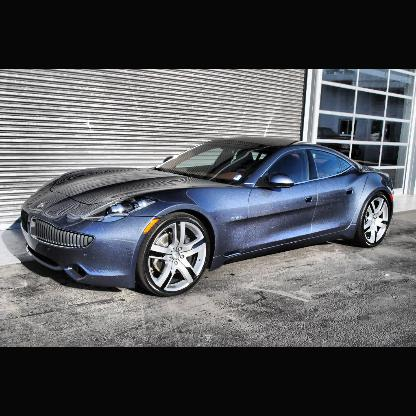Fisker Karma Sedan 2012: (22, 139, 395, 298)
